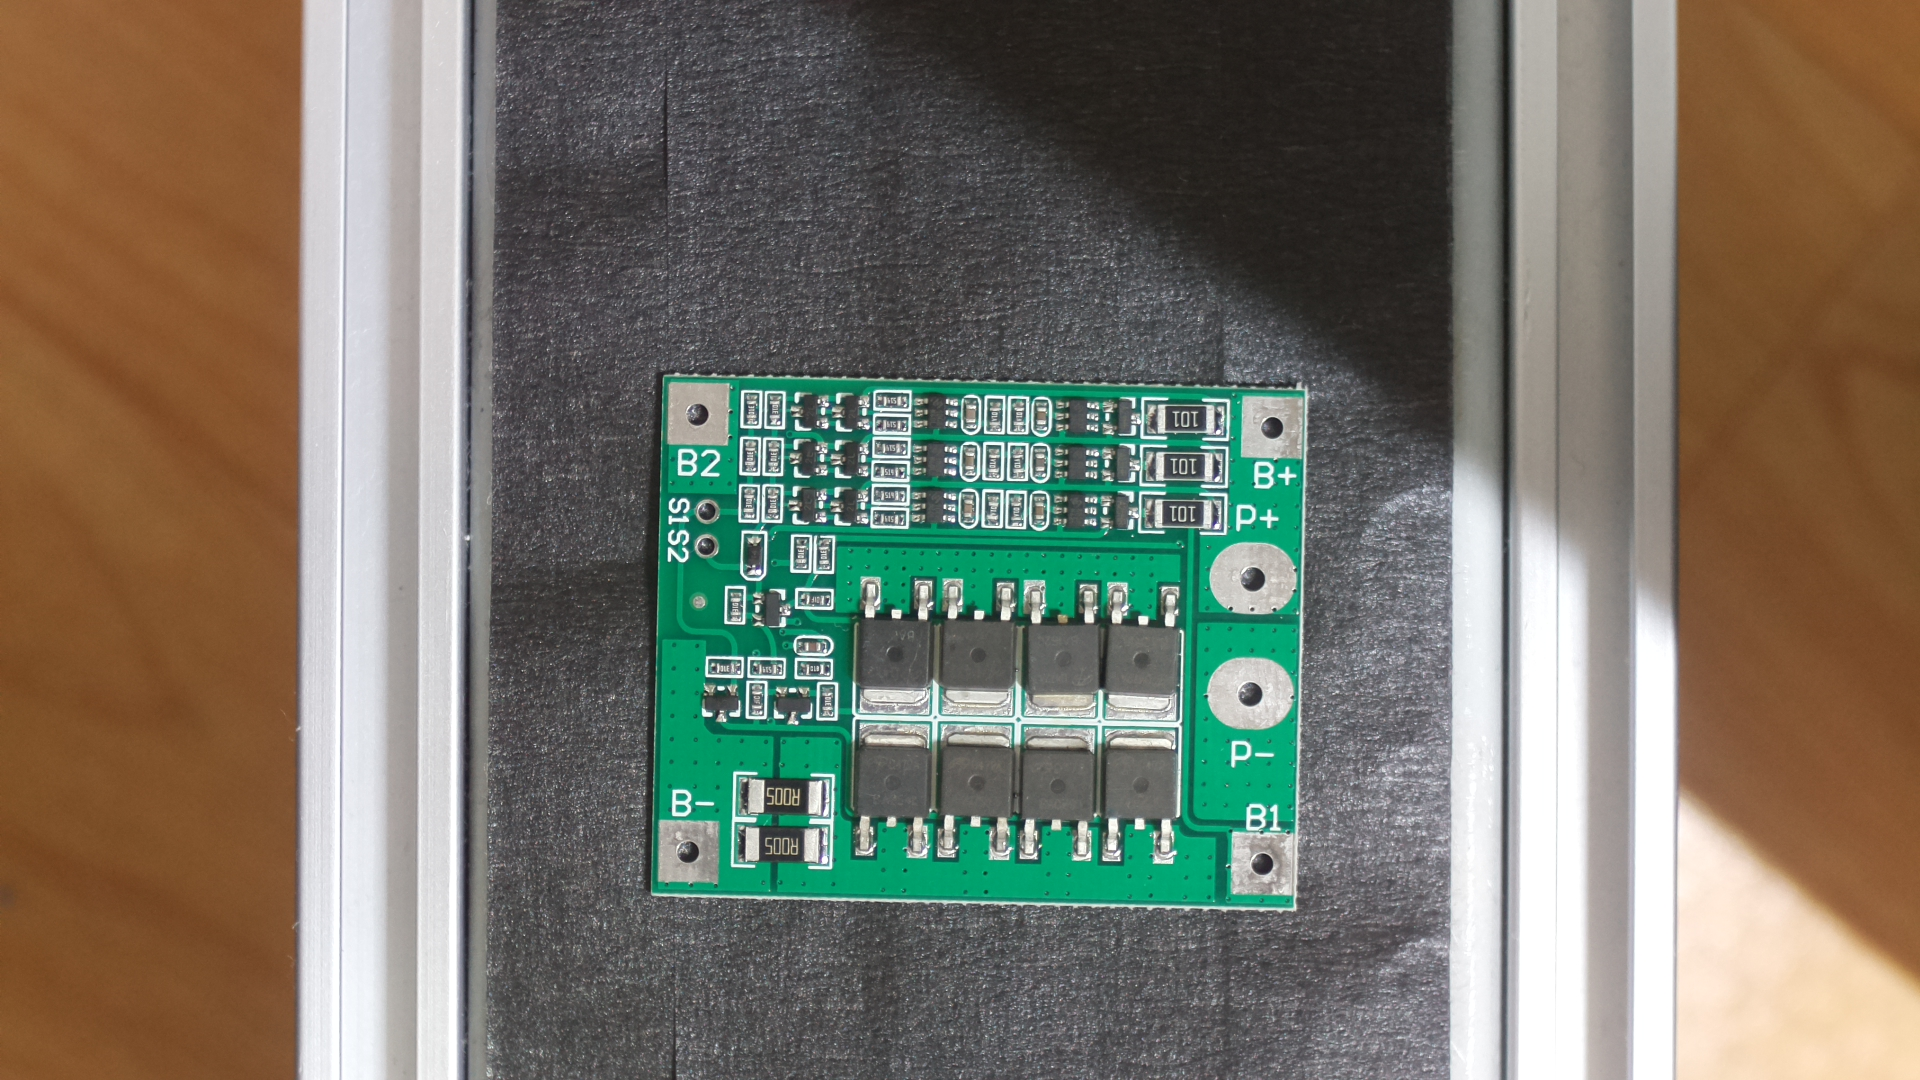C_Normal: (645, 353, 1317, 931)
